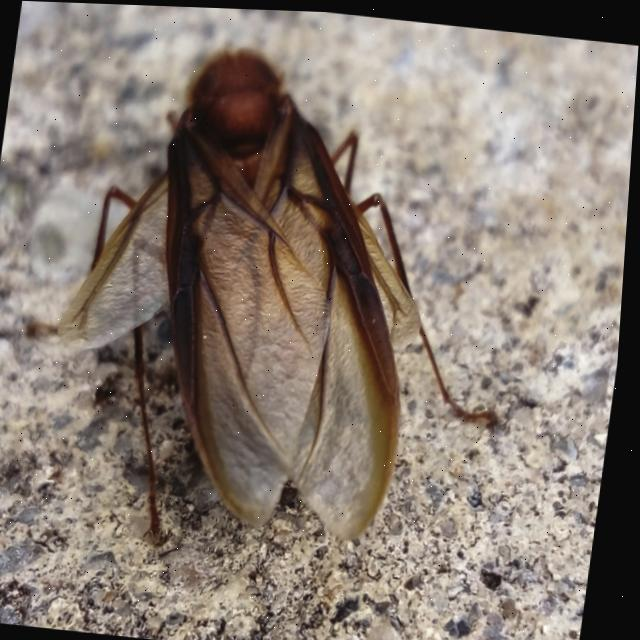Alive-Male-Alate: (3, 24, 545, 578)
